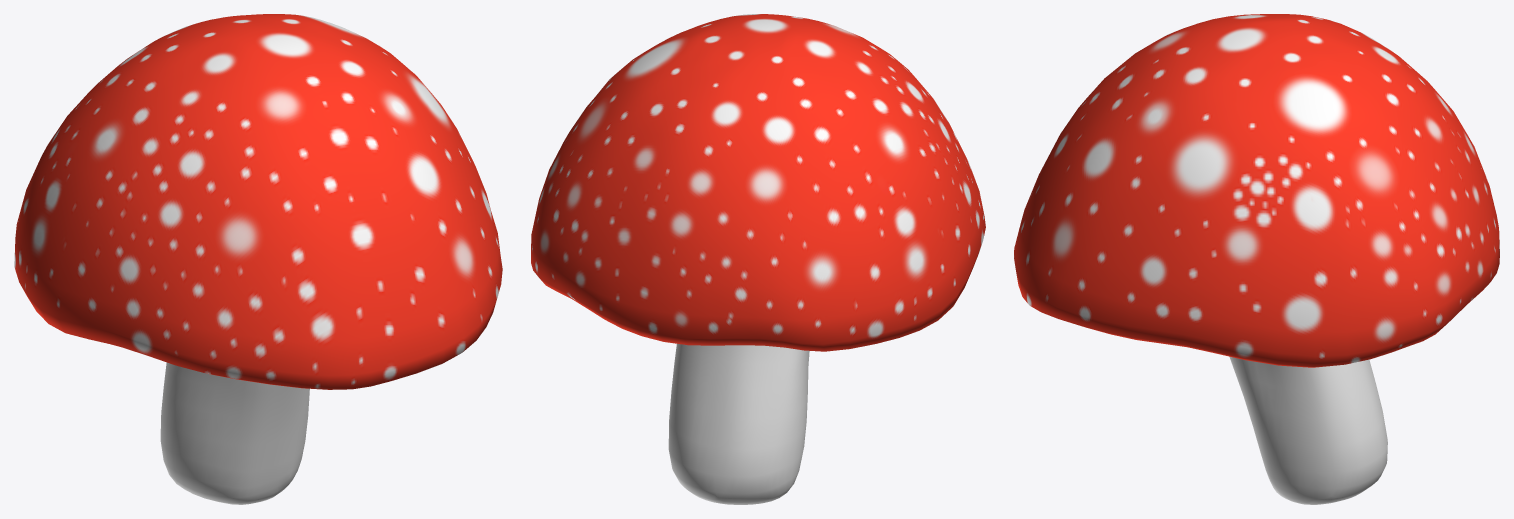
The picture shows the model from 3 angles, left to right: view 1: azimuth 30°, elevation 25°; view 2: azimuth 150°, elevation 25°; view 3: azimuth 270°, elevation 25°; orthographic projection. The views are drawn at different scales.
Parts seen in each view (by area): view 1: Plane_SimpleBake; view 2: Plane_SimpleBake; view 3: Plane_SimpleBake.
Part boxes in pixels (<box>): Plane_SimpleBake: <box>14,14,502,504</box>; Plane_SimpleBake: <box>531,14,985,504</box>; Plane_SimpleBake: <box>1014,14,1499,504</box>.
Bounding box in the file's own units: 192 × 213 × 204.
1 material, 1 textured.
